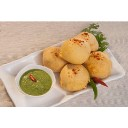bonda: (59, 65, 90, 90), (60, 40, 91, 61), (87, 53, 113, 78), (43, 46, 67, 71)
